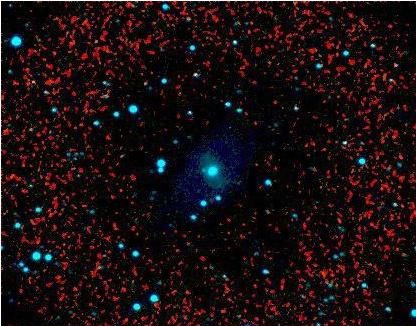star: (188, 153, 218, 183)
